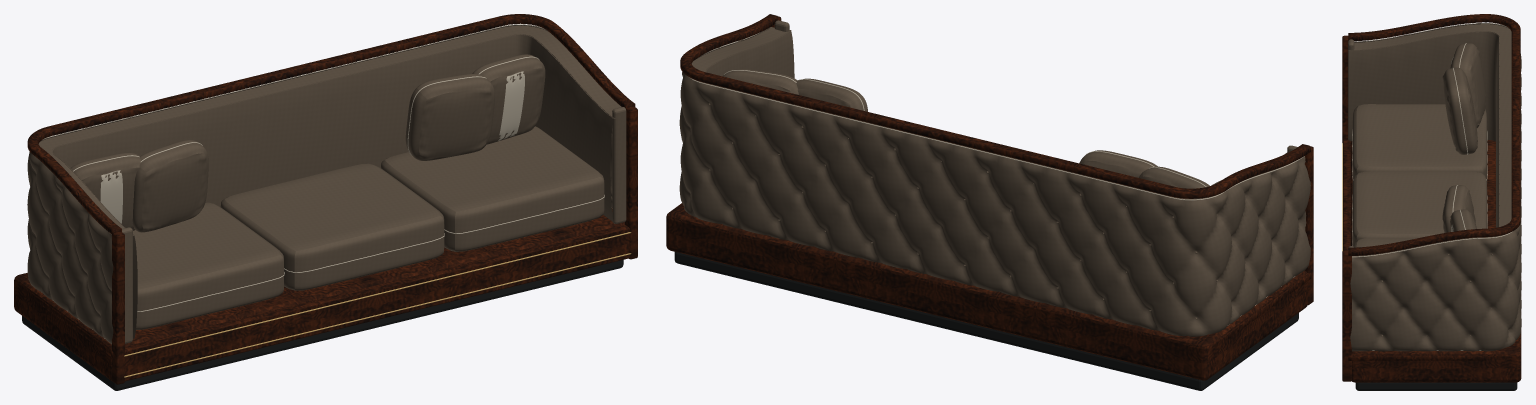
3 views of the same model, side by side, from view 1: azimuth 30°, elevation 25°; view 2: azimuth 150°, elevation 25°; view 3: azimuth 270°, elevation 25° (orthographic). The views are drawn at different scales.
Visible parts, largest first — view 1: Madison three-seat sofa | 50532.0 | salon-1 web batch; view 2: Madison three-seat sofa | 50532.0 | salon-1 web batch; view 3: Madison three-seat sofa | 50532.0 | salon-1 web batch.
Boxes of the visible parts, <box> form: Madison three-seat sofa | 50532.0 | salon-1 web batch: <box>14,14,637,390</box>; Madison three-seat sofa | 50532.0 | salon-1 web batch: <box>666,14,1313,390</box>; Madison three-seat sofa | 50532.0 | salon-1 web batch: <box>1342,14,1521,390</box>.
Bounding box in the file's own units: 2.75 × 0.95 × 0.9501.
5 materials, 2 textured.
